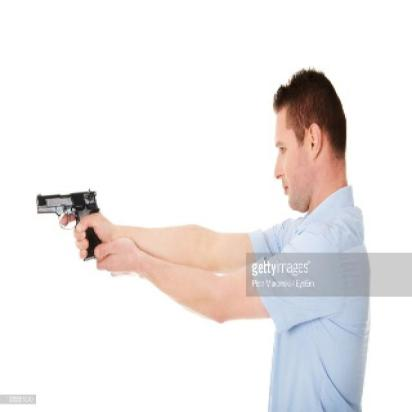Gun: (34, 185, 100, 260)
